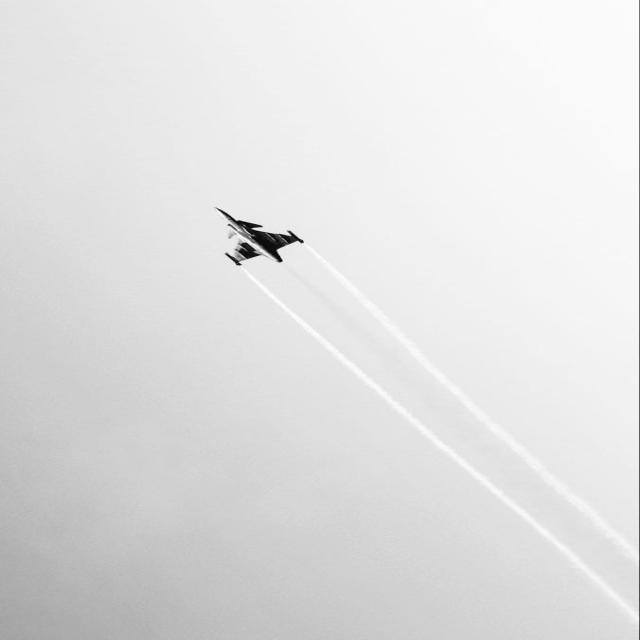iha: (216, 207, 303, 261)
